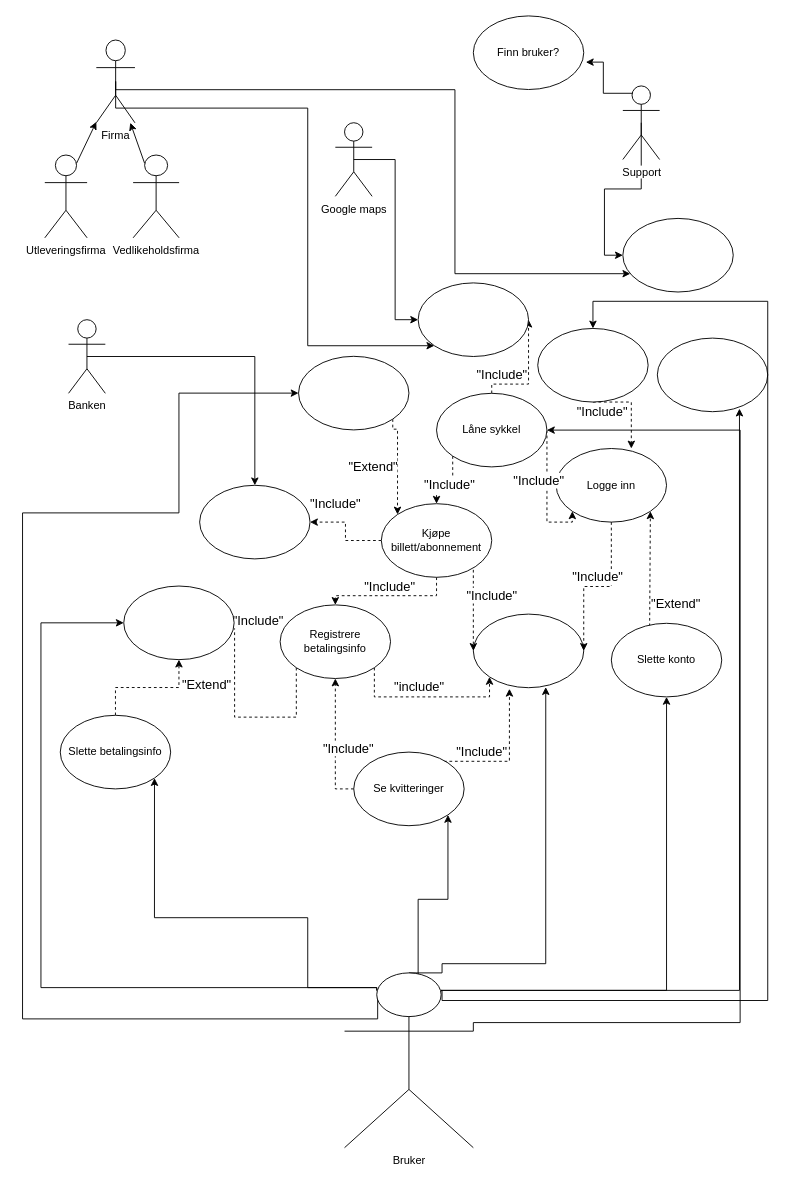
This 791x1183 diagram has some shape labels left out. The box of each missing label's shape, as (x1, y1, x2, y2) in pixels:
Endre betalignsinfo: (123, 585, 234, 660)
Finne (nærmeste) sykkelstativ: (417, 282, 529, 356)
Finne sykkelinfo: (622, 217, 733, 292)
Kansellere billett/abonnement: (298, 355, 409, 430)
Kontakte support: (656, 337, 768, 412)
Lage konto: (472, 613, 584, 688)
Logge ut: (537, 328, 648, 402)
Sende penger: (199, 484, 310, 559)
